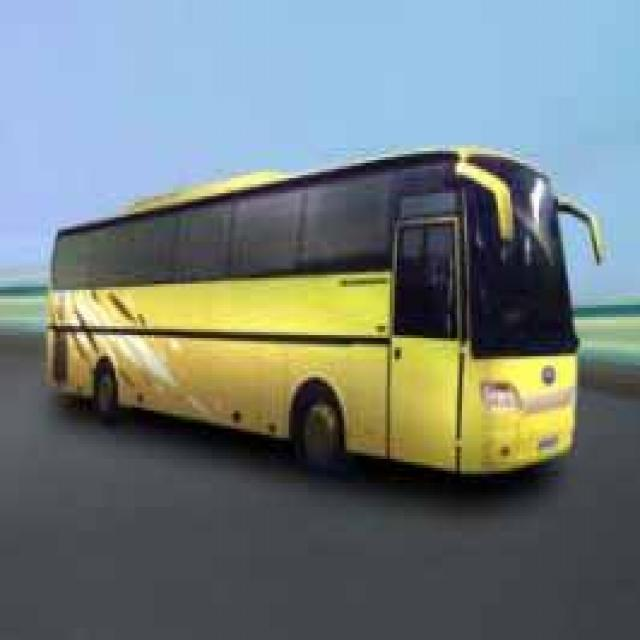bus: (31, 145, 611, 495)
